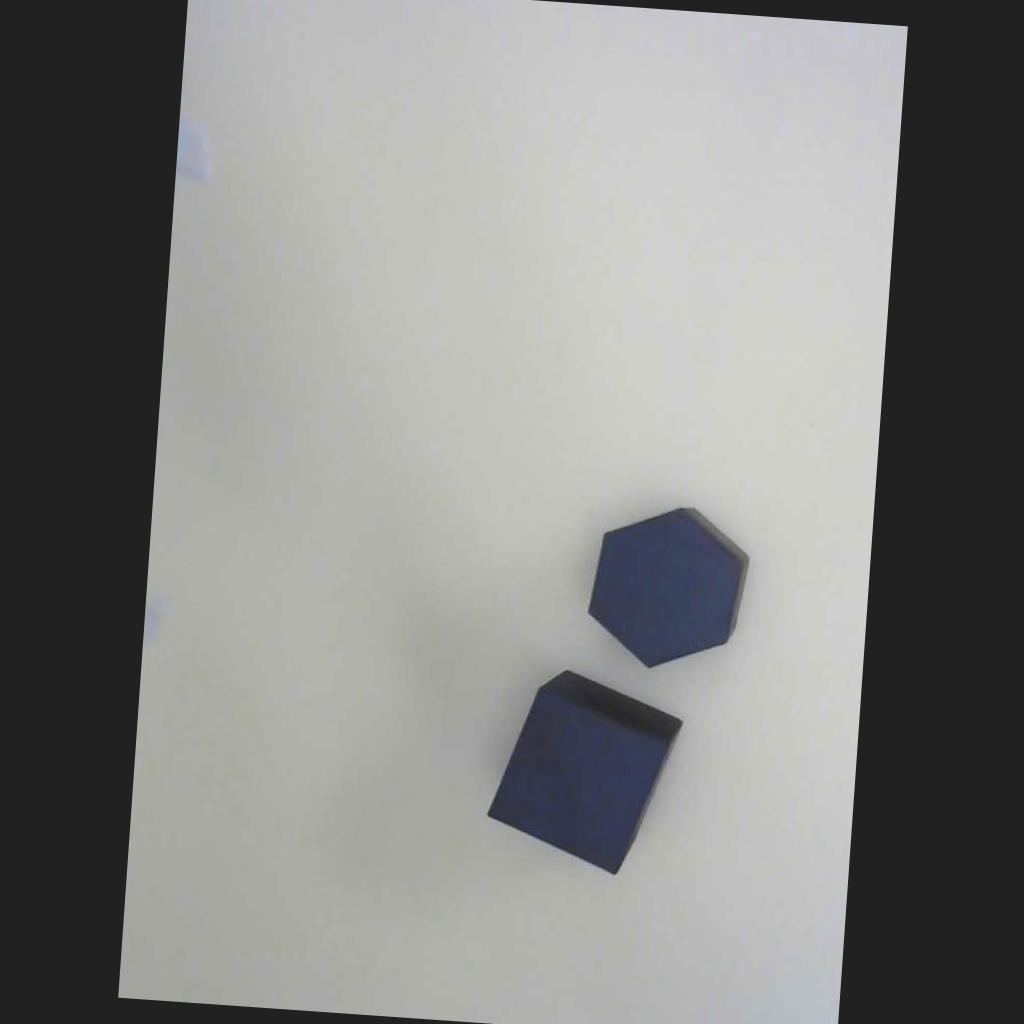hexagon: (553, 470, 779, 703)
square: (467, 644, 700, 891)
